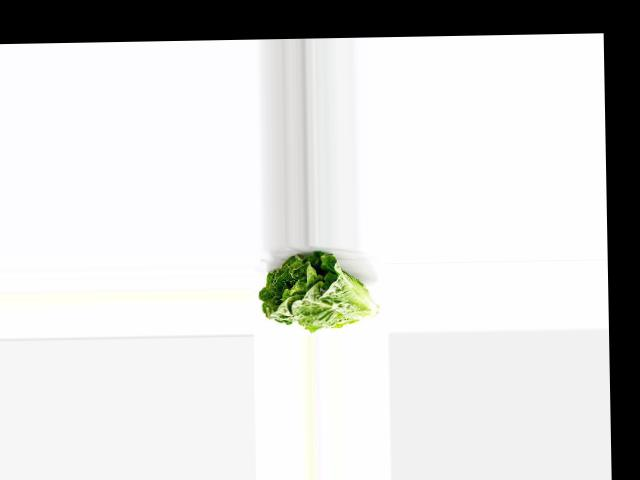lettuce: (259, 248, 377, 334)
